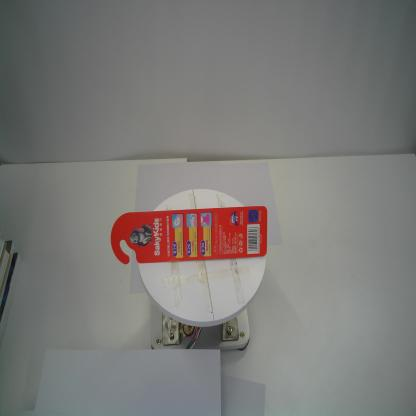Personal Hygiene: (110, 207, 268, 264)
